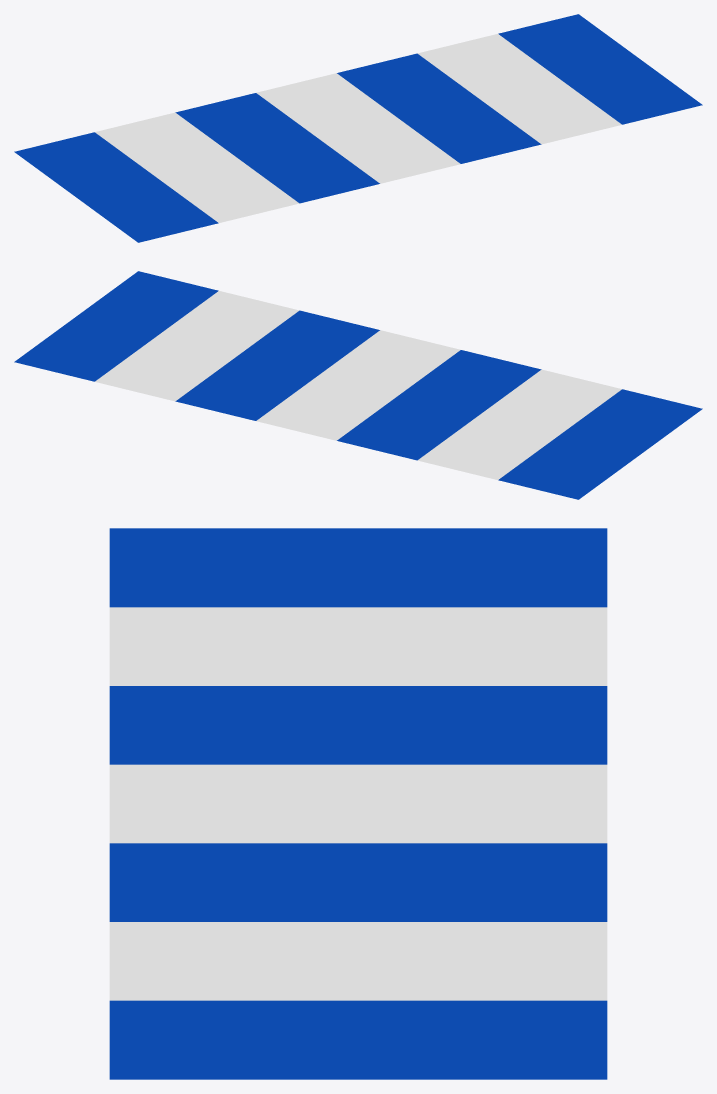
Rendered from toalla.FBX.
The picture shows the model from 3 angles, top to bottom: view 1: azimuth 30°, elevation 25°; view 2: azimuth 150°, elevation 25°; view 3: azimuth 270°, elevation 25°; orthographic projection. The views are drawn at different scales.
Parts seen in each view (by area): view 1: Plane001; view 2: Plane001; view 3: Plane001.
Part boxes in pixels (x1,y1,x2,y2): Plane001: (14,14,702,242); Plane001: (14,271,702,499); Plane001: (109,528,607,1079).
Size of the model in its own units: 70.12 by 1.64e-15 by 26.75.
